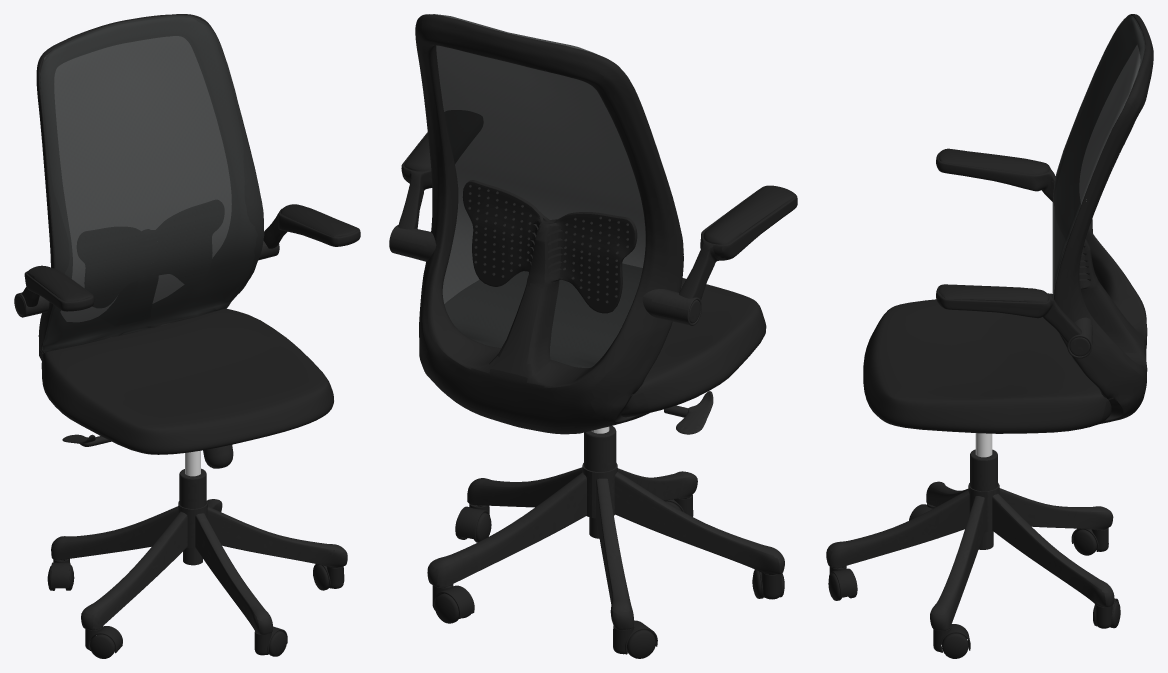
File: officeChair.glb
3 views of the same model, side by side, from view 1: azimuth 30°, elevation 25°; view 2: azimuth 150°, elevation 25°; view 3: azimuth 270°, elevation 25° (orthographic). The views are drawn at different scales.
Parts seen in each view (by area): view 1: _polySurface20_1; view 2: _polySurface20_1; view 3: _polySurface20_1.
Part boxes in pixels (left/top/right/bottom): _polySurface20_1: left=14, top=14, right=360, bottom=658; _polySurface20_1: left=389, top=14, right=797, bottom=658; _polySurface20_1: left=826, top=14, right=1153, bottom=658.
Bounding box in the file's own units: 63.49 × 107 × 58.
2 materials, 2 textured.
